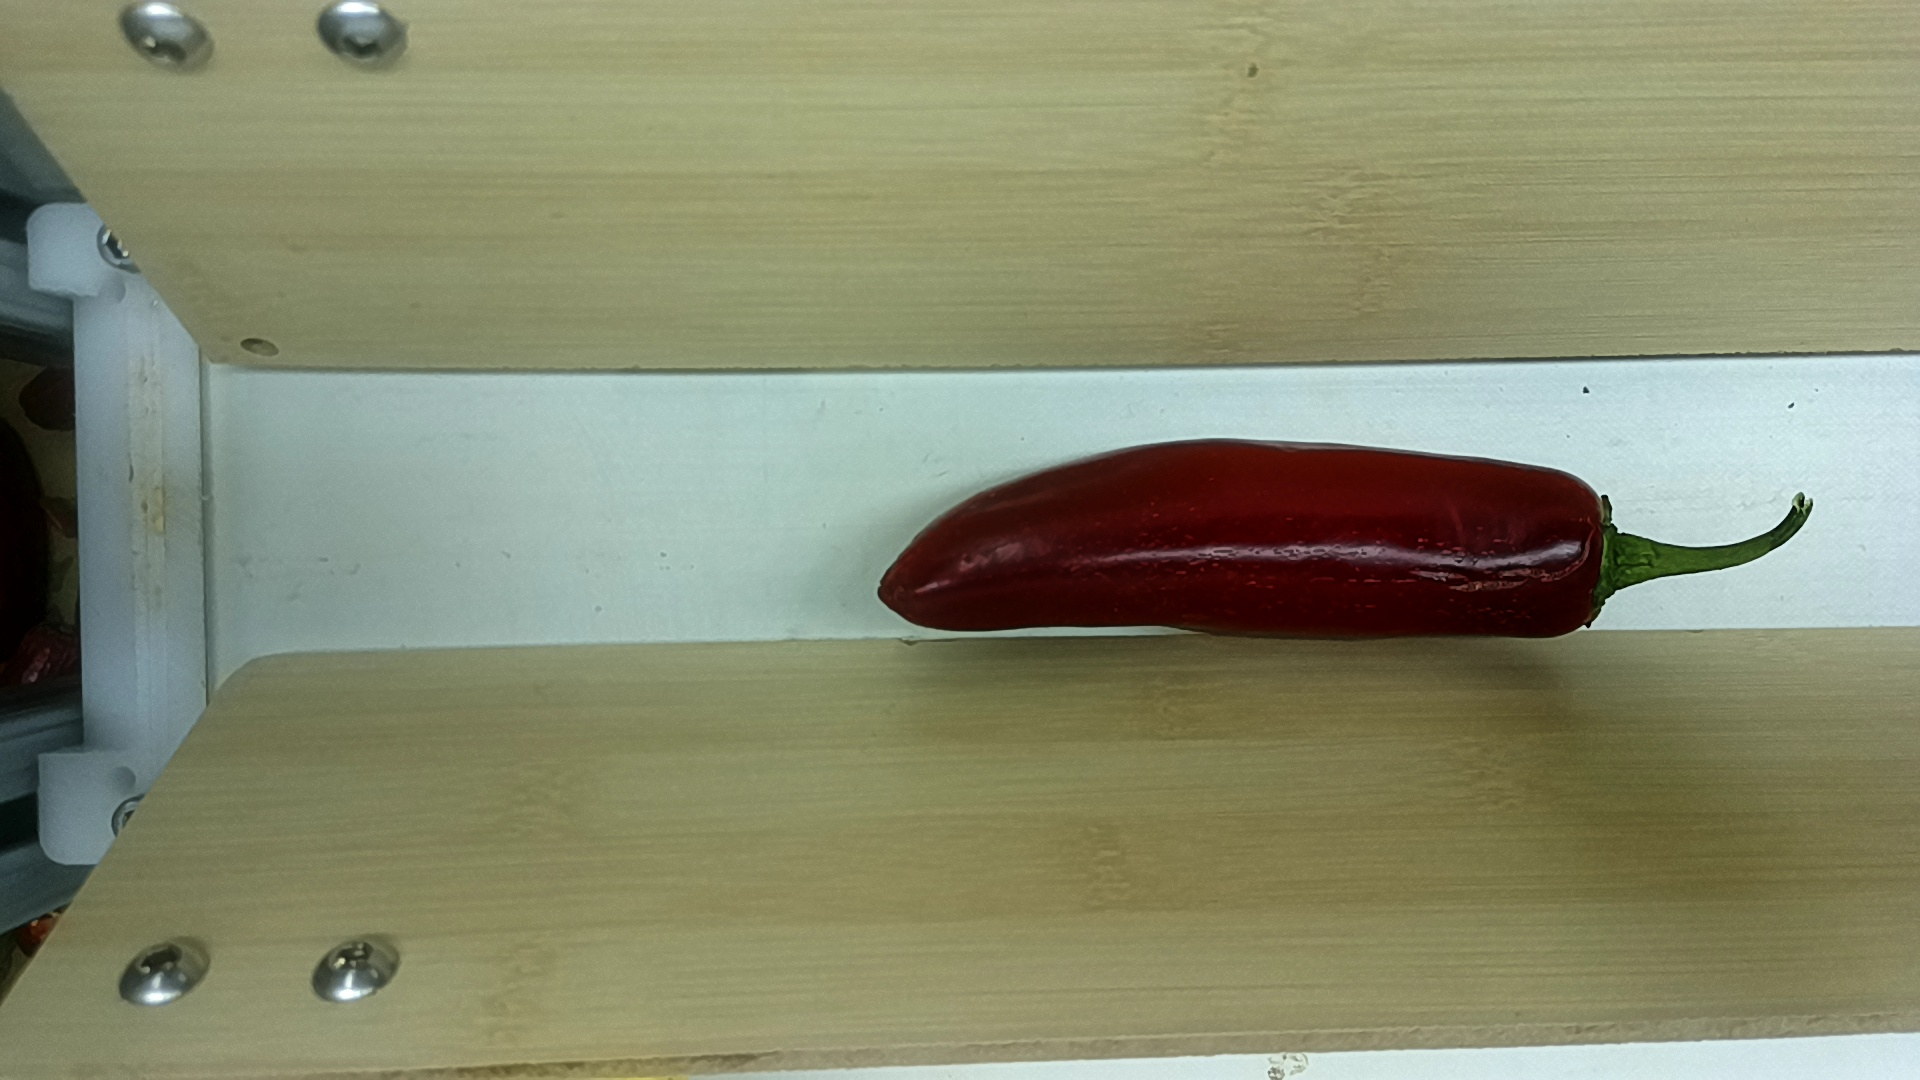Cut Point: (1545, 460, 1640, 646)
